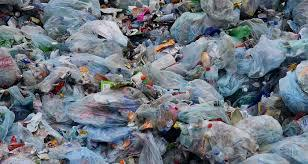Plastic: (71, 91, 151, 133), (203, 64, 245, 102), (196, 120, 218, 162)
